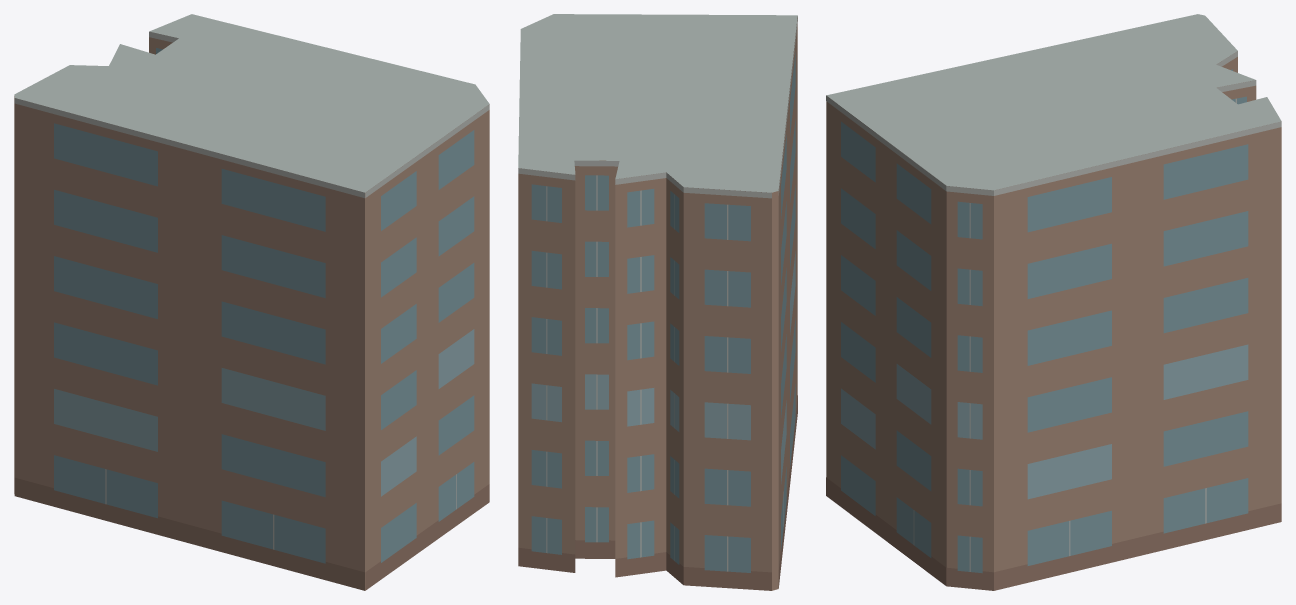
Rendered from survey-upis-32837183.glb.
The picture shows the model from 3 angles, left to right: view 1: azimuth 30°, elevation 25°; view 2: azimuth 150°, elevation 25°; view 3: azimuth 270°, elevation 25°; orthographic projection.
Parts seen in each view (by area): view 1: survey-upis-32837183.tmp; view 2: survey-upis-32837183.tmp; view 3: survey-upis-32837183.tmp.
Boxes of the visible parts, bbox=[...] form: survey-upis-32837183.tmp: bbox=[14, 14, 489, 590]; survey-upis-32837183.tmp: bbox=[518, 14, 797, 590]; survey-upis-32837183.tmp: bbox=[826, 14, 1281, 590].
Size of the model in its own units: 16.35 by 17.3 by 17.84.
